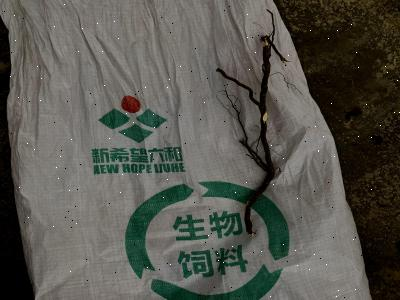Root: (216, 9, 288, 236)
